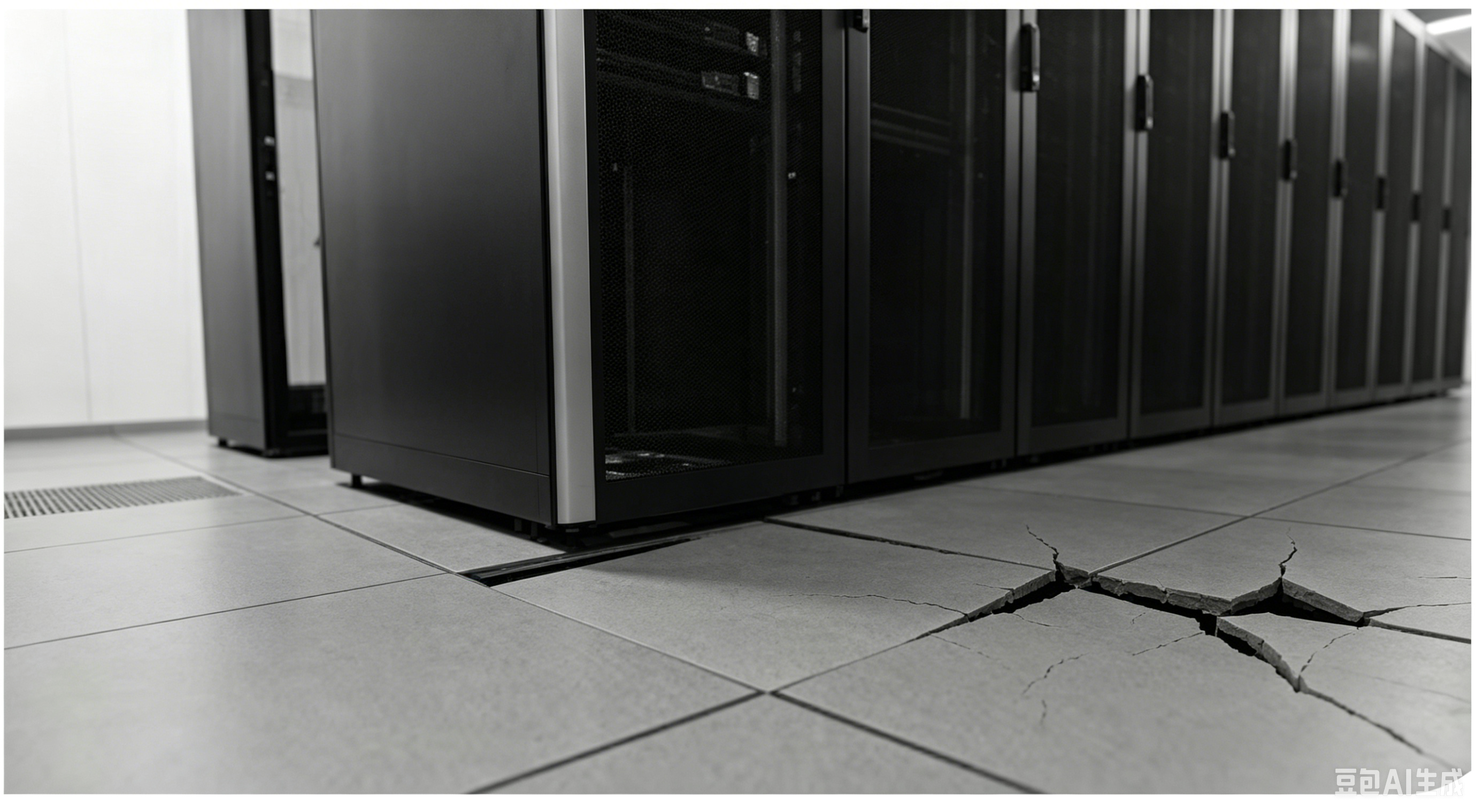floor_defect: (439, 519, 1051, 700), (1060, 546, 1472, 783)
